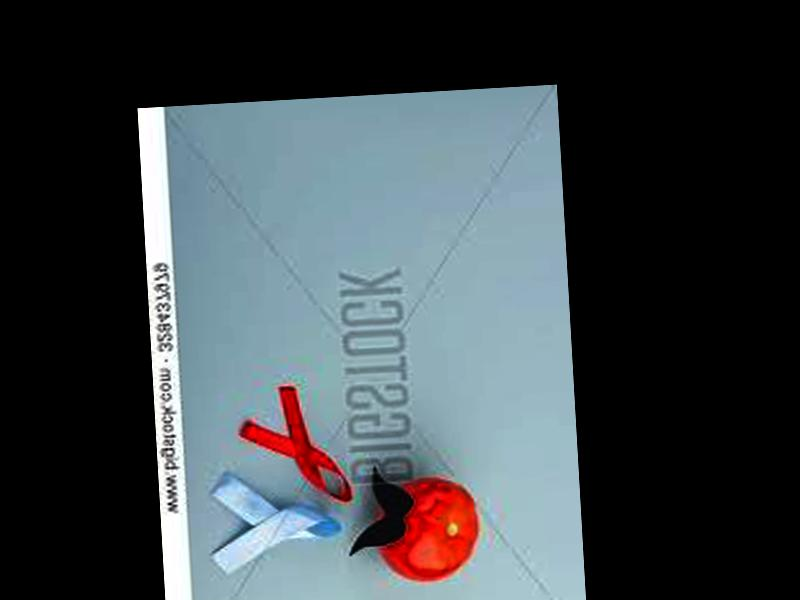Tomato: (374, 474, 482, 583)
